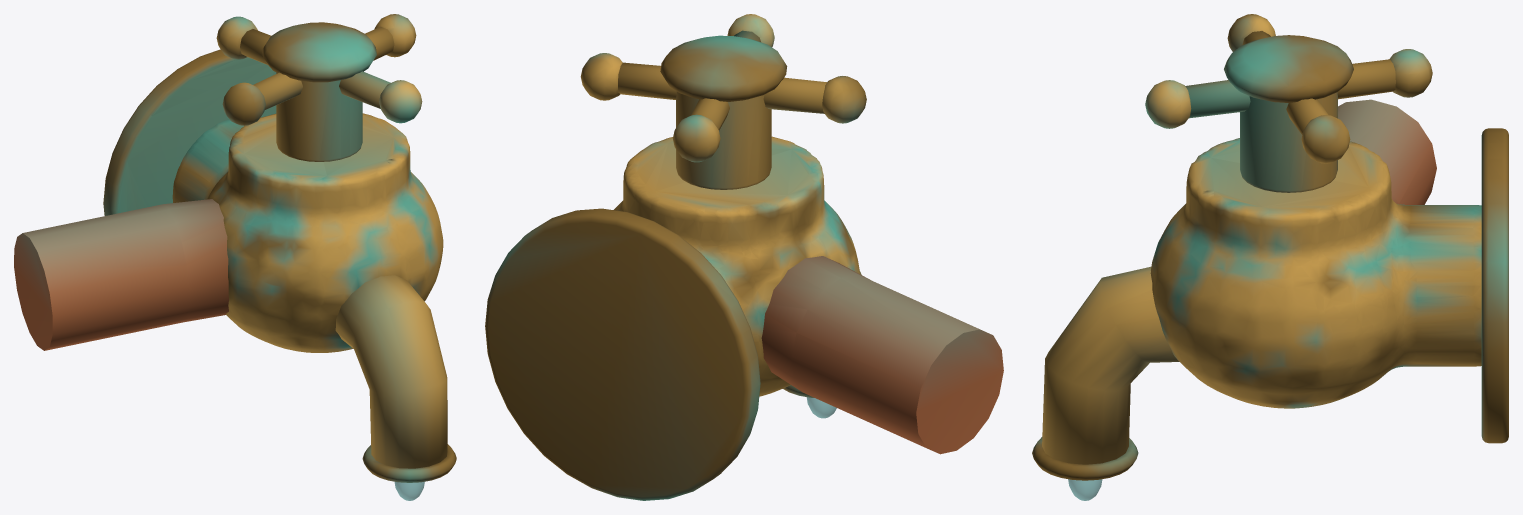
The model's file is grotto_spigot.glb.
3 views of the same model, side by side, from view 1: azimuth 30°, elevation 25°; view 2: azimuth 150°, elevation 25°; view 3: azimuth 270°, elevation 25° (orthographic). The views are drawn at different scales.
Parts seen in each view (by area): view 1: grotto_spigot; view 2: grotto_spigot; view 3: grotto_spigot.
Boxes of the visible parts, x1,y1,x2,y2 form: grotto_spigot: [14, 14, 456, 500]; grotto_spigot: [485, 14, 1003, 500]; grotto_spigot: [1032, 14, 1508, 500].
Bounding box in the file's own units: 9.16 × 9.17 × 8.78.
